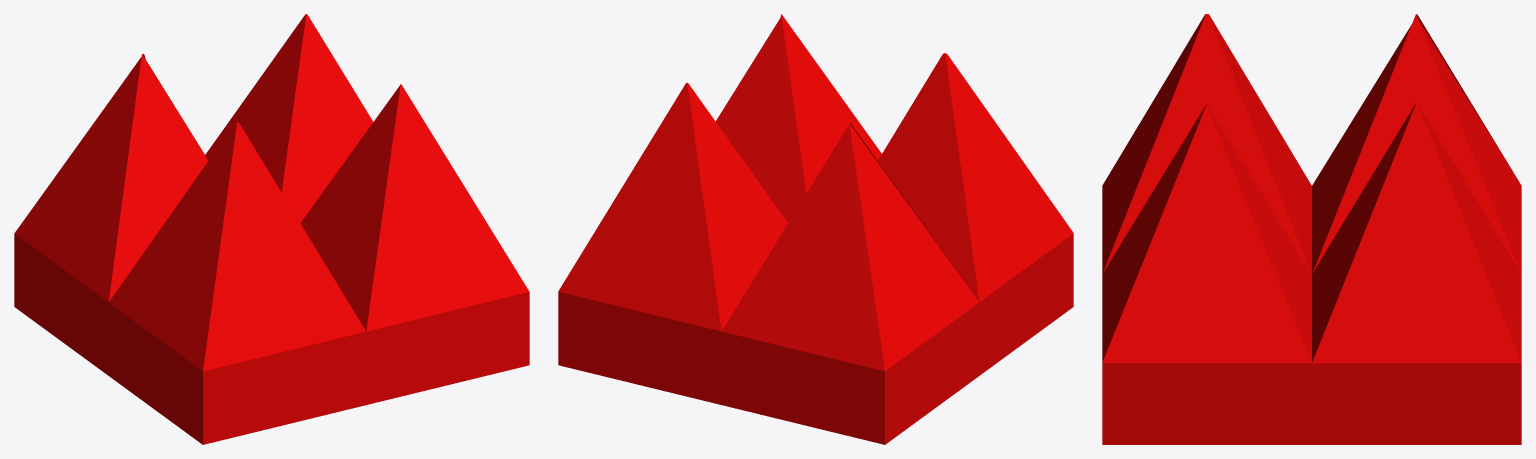
The model's file is spikes.fbx.
3 renders of one model, left to right at view 1: azimuth 30°, elevation 25°; view 2: azimuth 150°, elevation 25°; view 3: azimuth 270°, elevation 25°, orthographic. The views are drawn at different scales.
Visible parts, largest first — view 1: Cube; view 2: Cube; view 3: Cube.
Boxes of the visible parts, x1=… form: Cube: x1=14, y1=14, x2=529, y2=444; Cube: x1=558, y1=14, x2=1073, y2=444; Cube: x1=1102, y1=14, x2=1521, y2=444.
Size of the model in its own units: 200 by 156 by 200.
